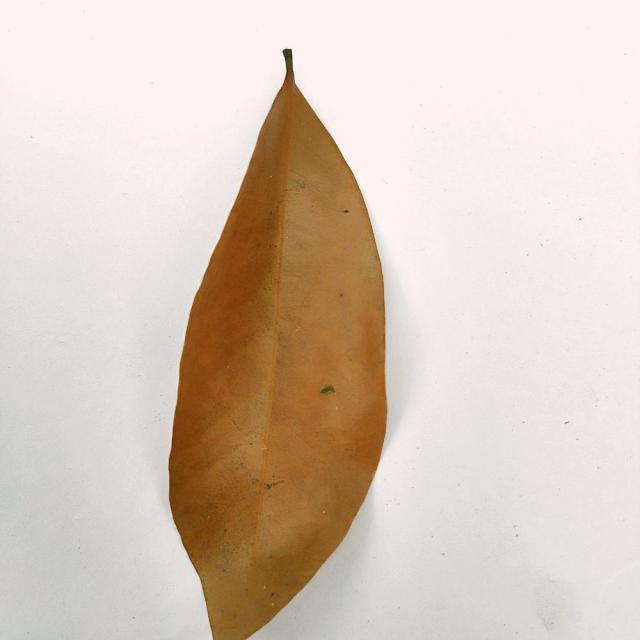Dry_Leaf-Lychee: (168, 51, 388, 639)
